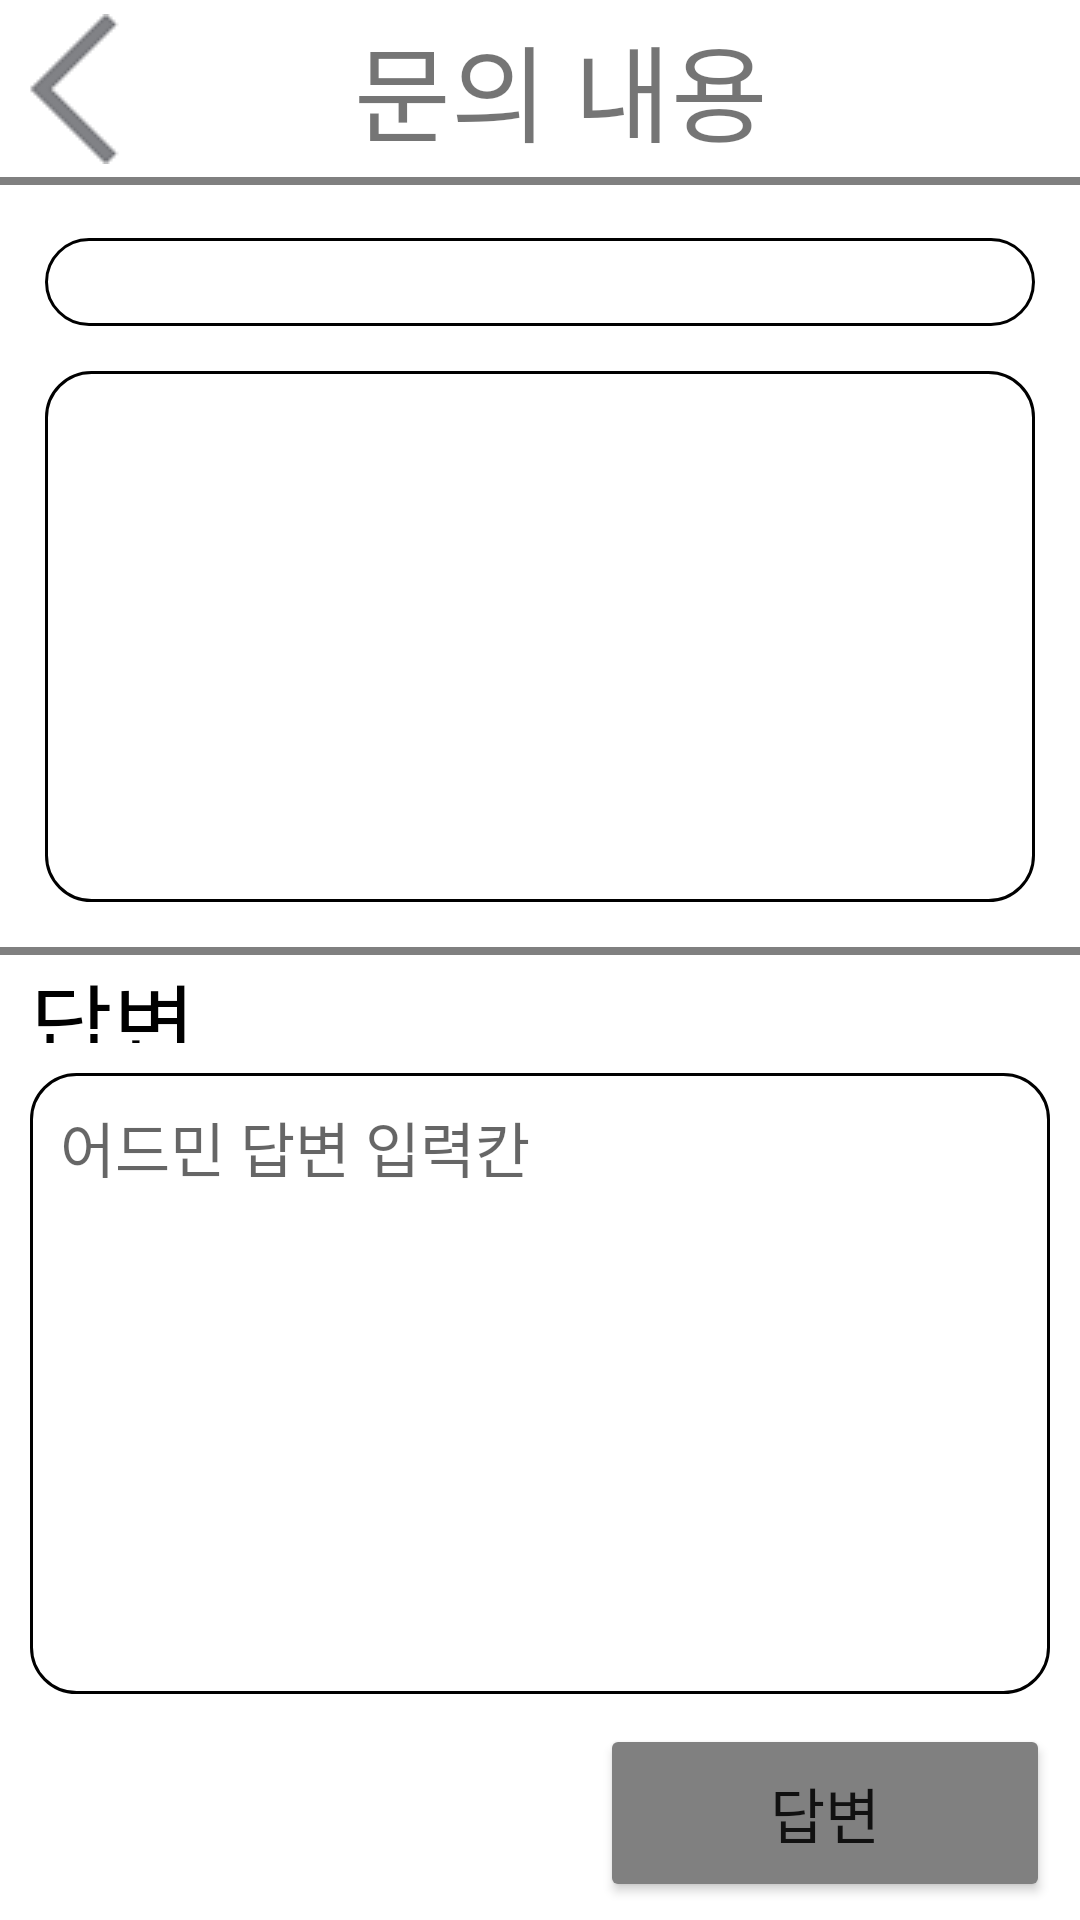

Icons on this 1080x1920 Android screen, each with its box as rect(x1, y1, x2, y2):
back space: rect(30, 14, 117, 164)
